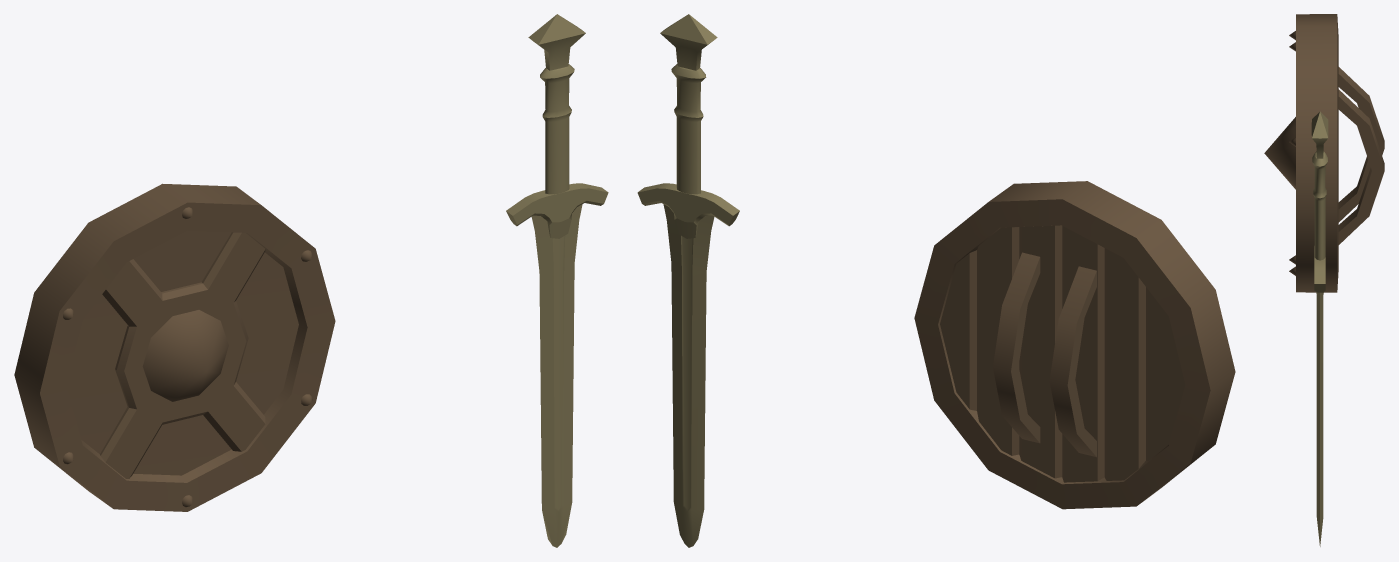
File: Skeleton Weapons.fbx
The picture shows the model from 3 angles, left to right: view 1: azimuth 30°, elevation 25°; view 2: azimuth 150°, elevation 25°; view 3: azimuth 270°, elevation 25°; orthographic projection. The views are drawn at different scales.
Parts seen in each view (by area): view 1: group71_pasted__pasted__pasted__pCylinder3, pasted__group44_pasted__pasted__pCube9; view 2: group71_pasted__pasted__pasted__pCylinder3, pasted__group44_pasted__pasted__pCube9; view 3: group71_pasted__pasted__pasted__pCylinder3, pasted__group44_pasted__pasted__pCube9.
Part boxes in pixels (bbox=[...]): group71_pasted__pasted__pasted__pCylinder3: bbox=[14, 183, 335, 511]; pasted__group44_pasted__pasted__pCube9: bbox=[506, 14, 608, 547]; group71_pasted__pasted__pasted__pCylinder3: bbox=[914, 181, 1235, 509]; pasted__group44_pasted__pasted__pCube9: bbox=[637, 14, 739, 547]; group71_pasted__pasted__pasted__pCylinder3: bbox=[1264, 14, 1384, 292]; pasted__group44_pasted__pasted__pCube9: bbox=[1311, 111, 1328, 546].
Bounding box in the file's own units: 6.23 × 5.48 × 1.37.
